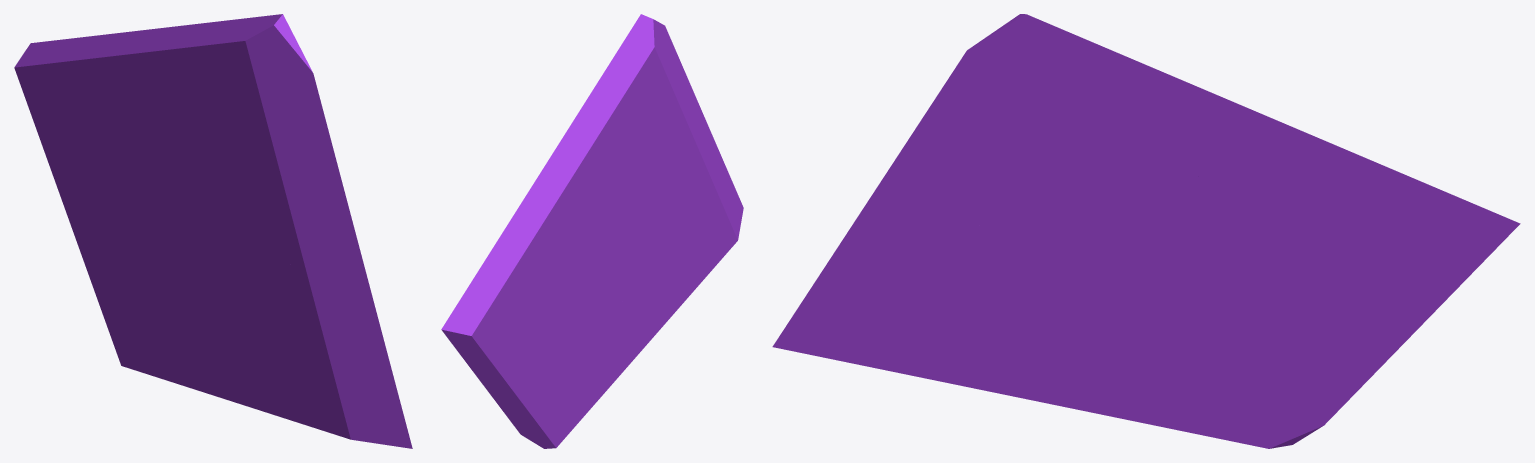
File: Window_45_3_chunks.fbx
The picture shows the model from 3 angles, left to right: view 1: azimuth 30°, elevation 25°; view 2: azimuth 150°, elevation 25°; view 3: azimuth 270°, elevation 25°; orthographic projection. The views are drawn at different scales.
Visible parts, largest first — view 1: Window_45_3_2, Window_45_3_1, Window_45_3_3, Window_45_3_0; view 2: Window_45_3_3, Window_45_3_2, Window_45_3_1, Window_45_3_0; view 3: Window_45_3_3, Window_45_3_1, Window_45_3_2, Window_45_3_0.
Boxes of the visible parts, box(x1,y1,x2,y2) form: Window_45_3_2: box(135, 14, 363, 268); Window_45_3_1: box(192, 243, 412, 448); Window_45_3_3: box(14, 28, 180, 285); Window_45_3_0: box(92, 187, 213, 388); Window_45_3_3: box(441, 162, 603, 442); Window_45_3_2: box(547, 14, 704, 244); Window_45_3_1: box(612, 118, 743, 383); Window_45_3_0: box(533, 237, 628, 448); Window_45_3_3: box(1123, 112, 1520, 446); Window_45_3_1: box(772, 200, 1185, 431); Window_45_3_2: box(869, 14, 1258, 257); Window_45_3_0: box(1164, 347, 1304, 448).
Size of the model in its own units: 27.2 by 424 by 658.
